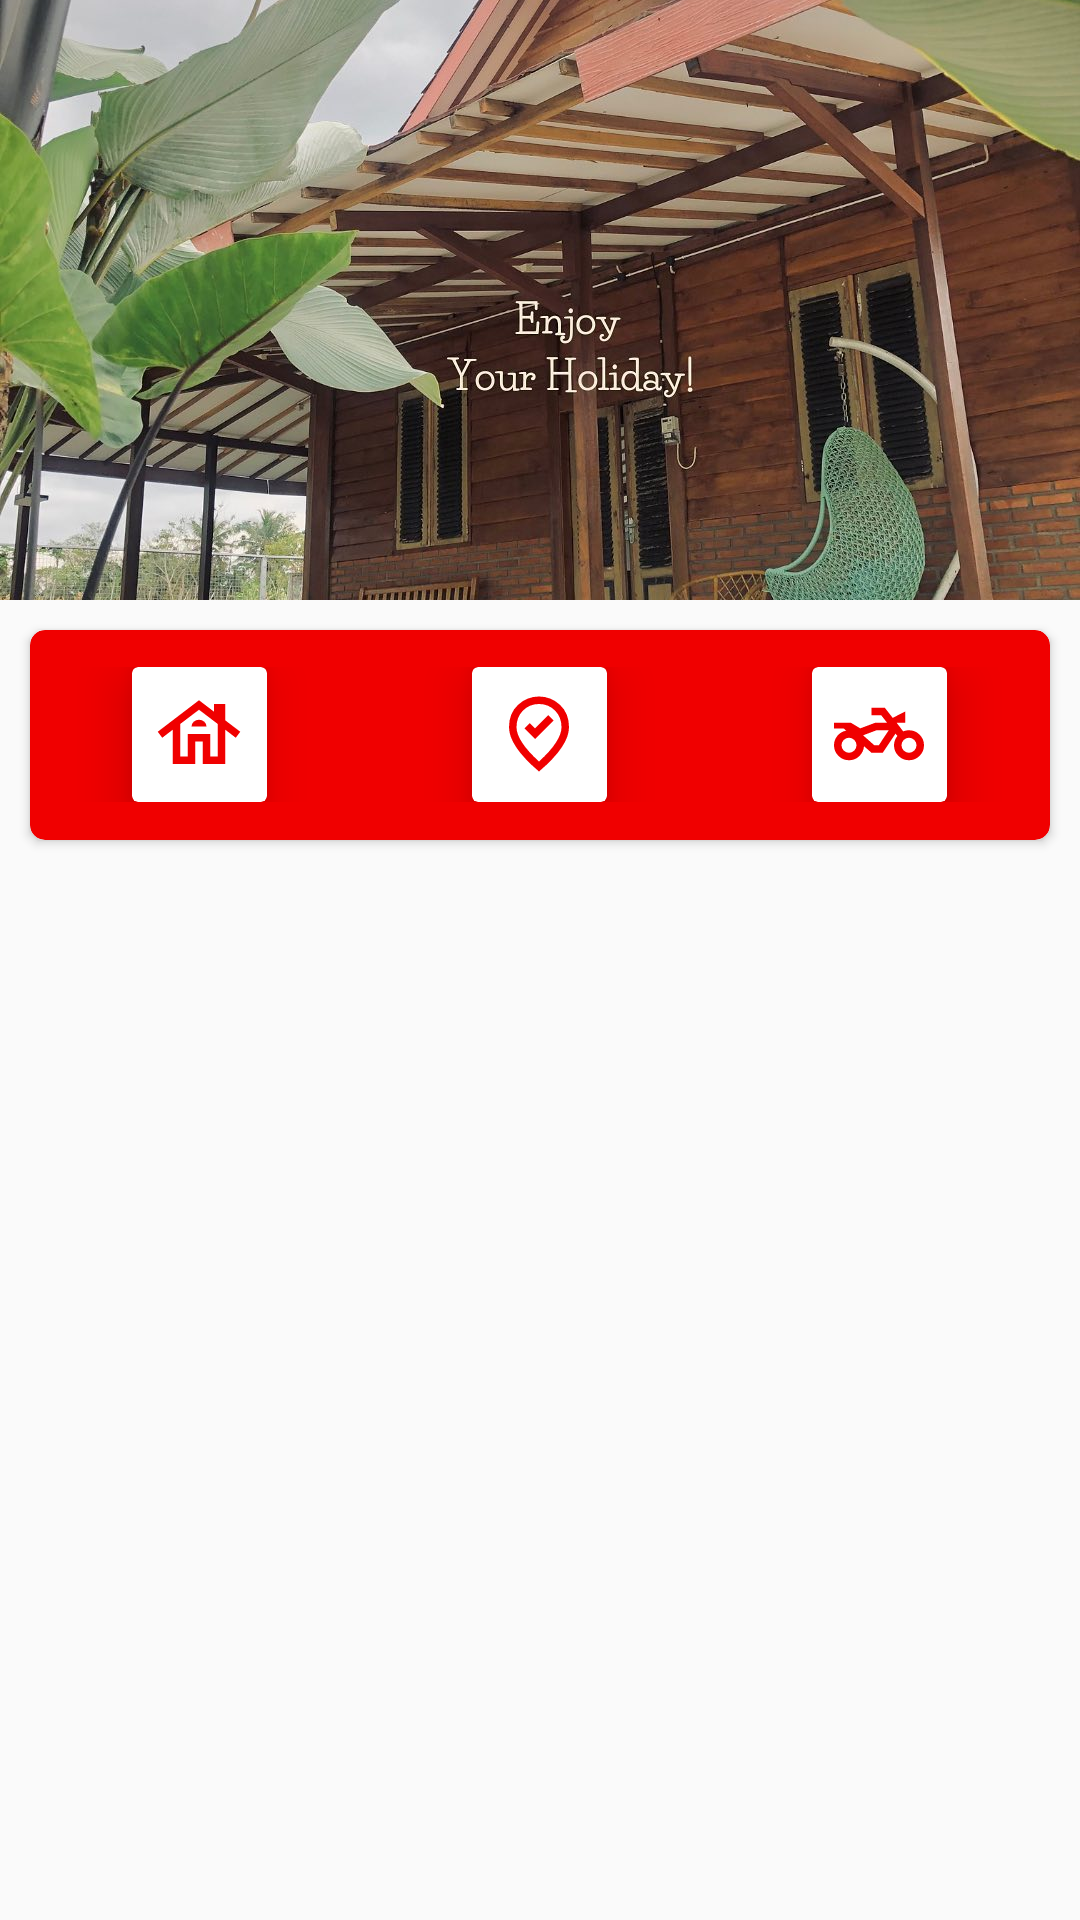

Named icons in this screenshot (1080w x 1920h) and their bounding boxes, (left=x1, top=y1, right=x2, bottom=y2):
motocycle: (left=834, top=707, right=924, bottom=761)
rent: (left=158, top=700, right=240, bottom=764)
